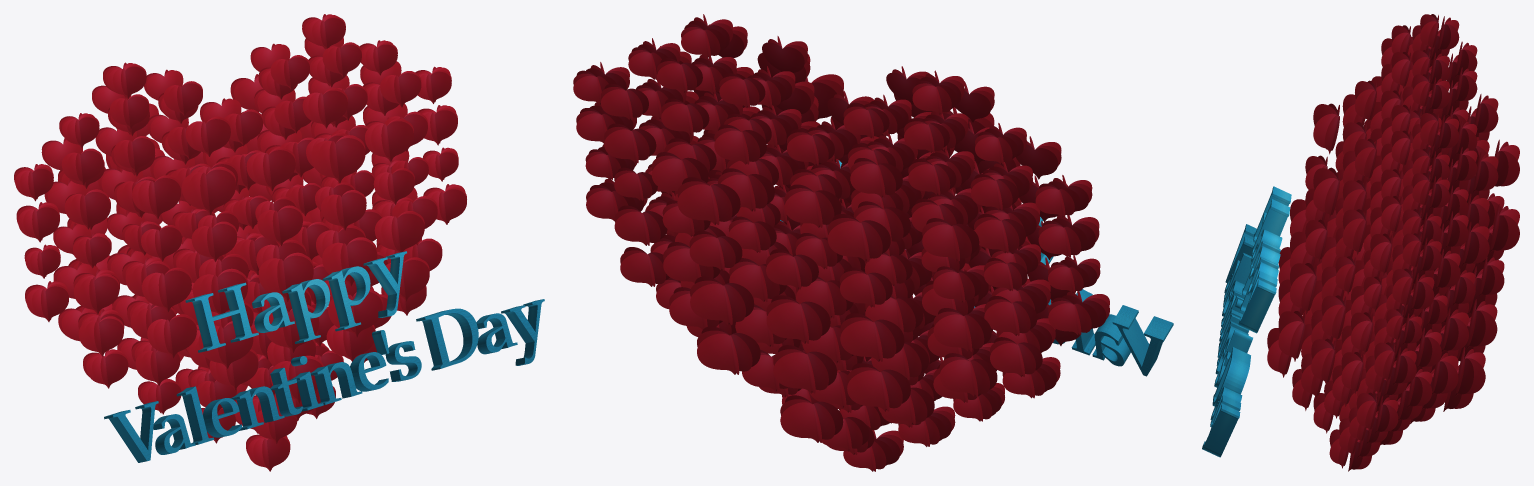
File: heart_obj.glb
The picture shows the model from 3 angles, left to right: view 1: azimuth 30°, elevation 25°; view 2: azimuth 150°, elevation 25°; view 3: azimuth 270°, elevation 25°; orthographic projection. The views are drawn at different scales.
Visible parts, largest first — view 1: Curve.597; view 2: Curve.597; view 3: Curve.597.
Part boxes in pixels (x1,y1,x2,y2): Curve.597: (14,14,544,471); Curve.597: (573,14,1173,471); Curve.597: (1202,14,1519,471).
Size of the model in its own units: 2.17 by 1.87 by 1.33.
Materials: 2 (2 with a texture image).
